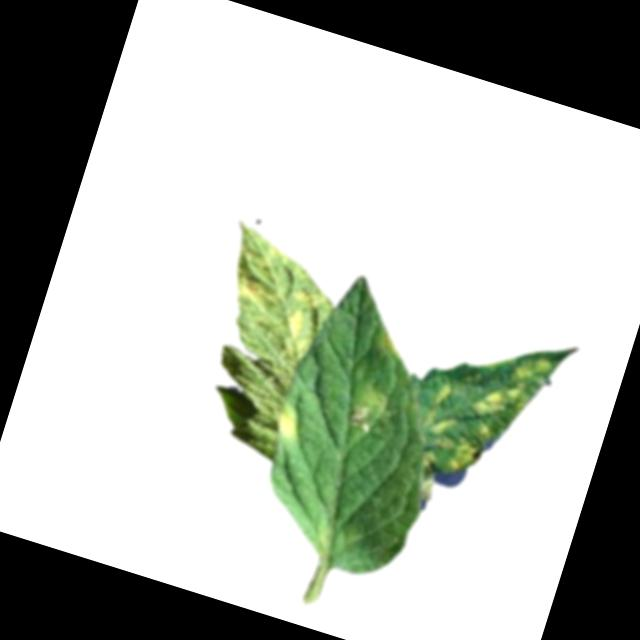Leaf_Mold: (221, 223, 299, 311), (278, 285, 329, 360), (420, 378, 467, 440), (472, 378, 525, 426), (271, 401, 313, 443), (510, 350, 554, 388), (445, 436, 482, 479)
